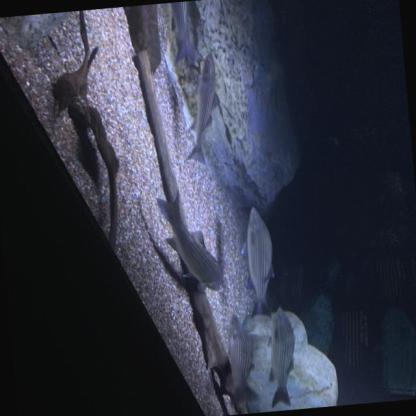fish: (152, 184, 226, 298), (176, 51, 226, 170), (238, 204, 280, 318), (258, 304, 302, 412), (220, 311, 260, 409), (164, 1, 199, 67)
